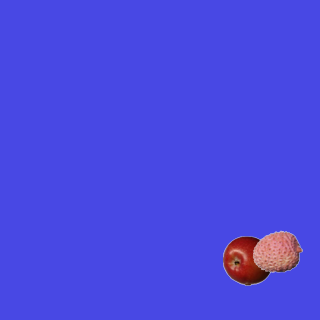Apple Braeburn: (222, 235, 272, 285)
Lychee: (252, 226, 302, 276)
